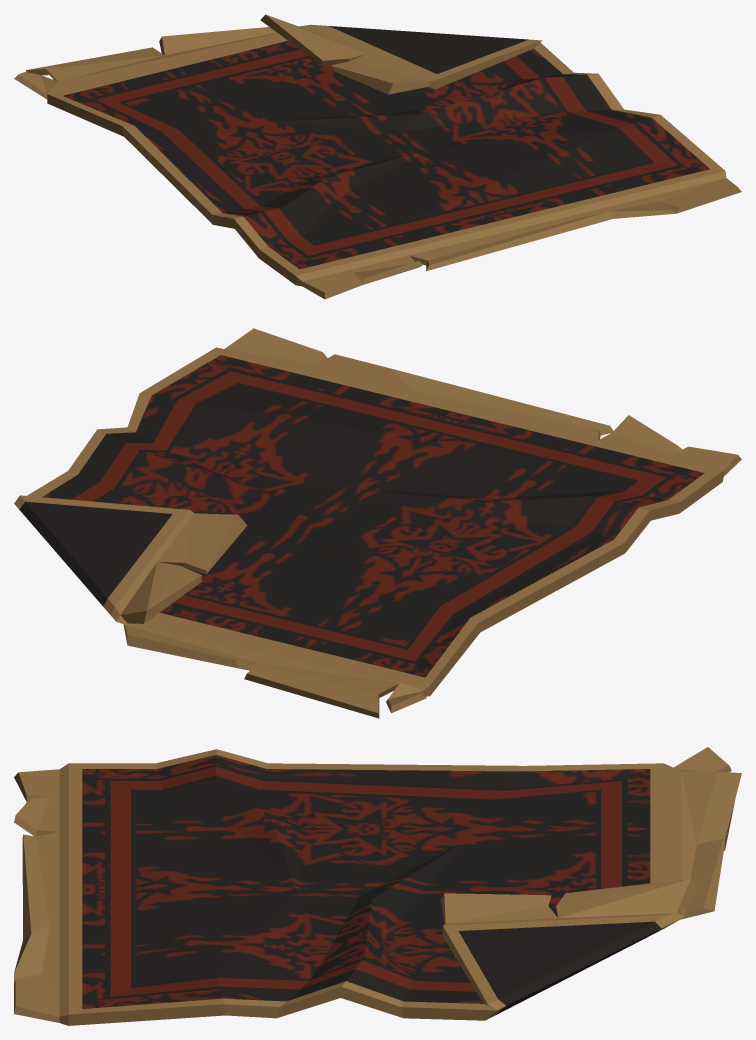
File: crypt_rug_a.gltf
3 renders of one model, top to bottom at view 1: azimuth 30°, elevation 25°; view 2: azimuth 150°, elevation 25°; view 3: azimuth 270°, elevation 25°, orthographic. The views are drawn at different scales.
Visible parts, largest first — view 1: crypt_rug_a; view 2: crypt_rug_a; view 3: crypt_rug_a.
Boxes of the visible parts, x1,y1,x2,y2 form: crypt_rug_a: (14,14,741,299); crypt_rug_a: (14,328,741,718); crypt_rug_a: (14,747,741,1025).
Bounding box in the file's own units: 1.05 × 0.0621 × 1.24.
1 material, 1 textured.
